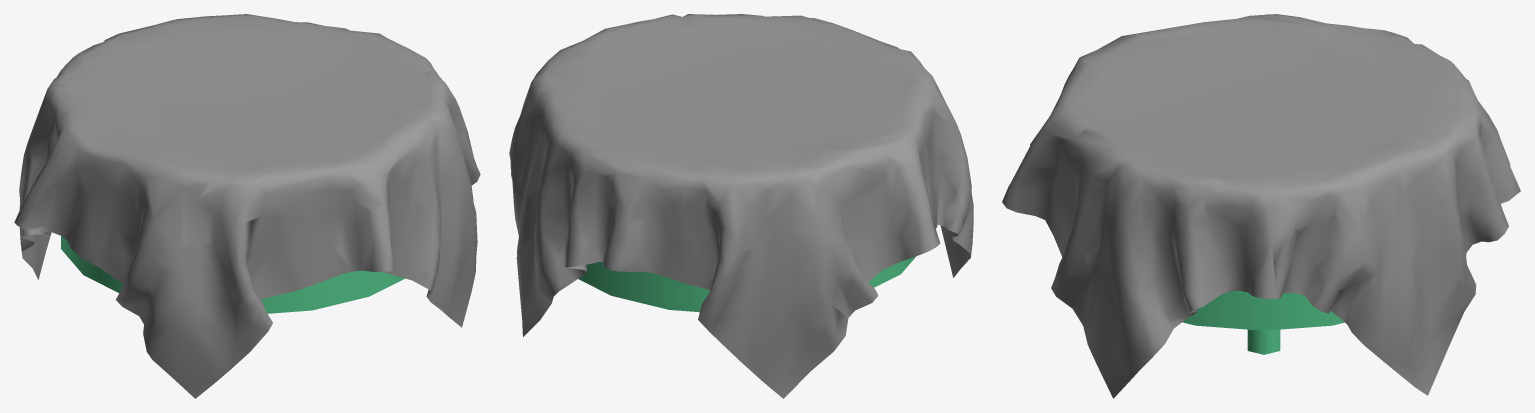
The model's file is SM_TableBackground.FBX.
The picture shows the model from 3 angles, left to right: view 1: azimuth 30°, elevation 25°; view 2: azimuth 150°, elevation 25°; view 3: azimuth 270°, elevation 25°; orthographic projection. The views are drawn at different scales.
Visible parts, largest first — view 1: SM_TableClothed; view 2: SM_TableClothed; view 3: SM_TableClothed.
Part boxes in pixels (box(x1,y1,x2,y2)): SM_TableClothed: box(14, 14, 480, 398); SM_TableClothed: box(509, 14, 973, 398); SM_TableClothed: box(1002, 14, 1520, 398).
Bounding box in the file's own units: 170 × 89.25 × 169.
